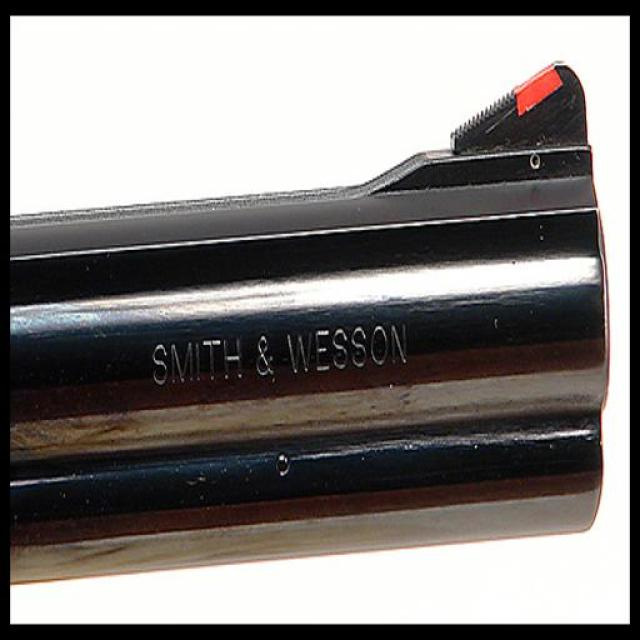pistol: (9, 56, 609, 586)
